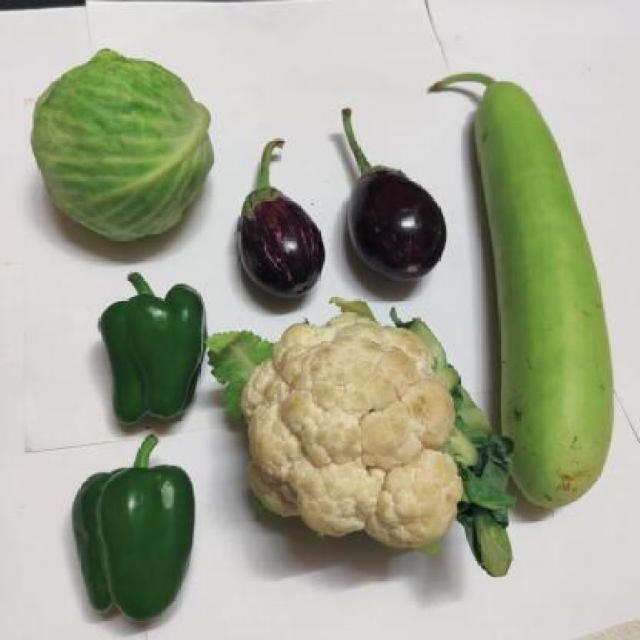Brinjal: (238, 132, 446, 294)
Cabbage: (29, 48, 214, 244)
Calabash: (481, 82, 617, 510)
Capsicum: (74, 435, 200, 623), (99, 277, 208, 426)
Cauliflower: (236, 303, 477, 549)
